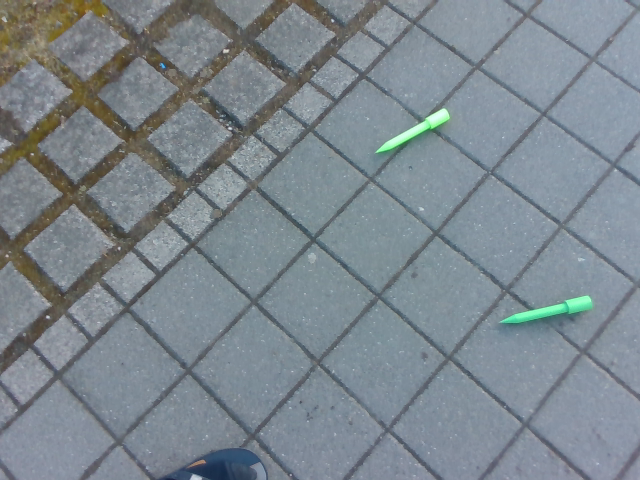Probe: (373, 105, 457, 164), (496, 291, 599, 327)
